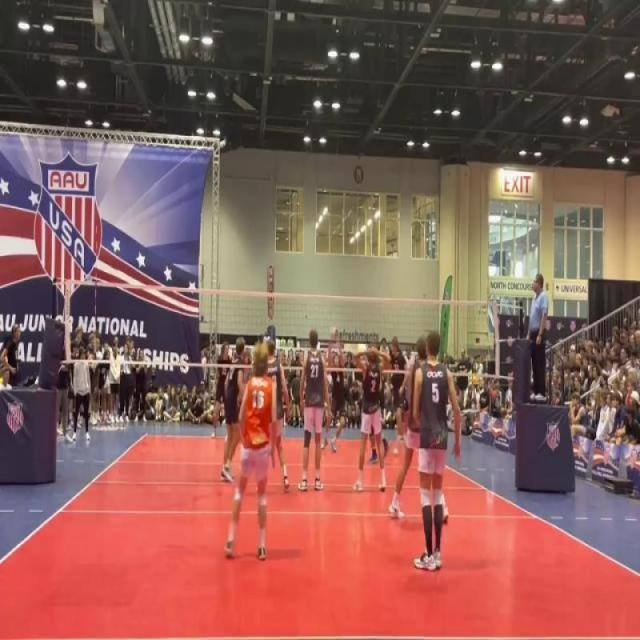volleyball: (328, 324, 339, 344)
